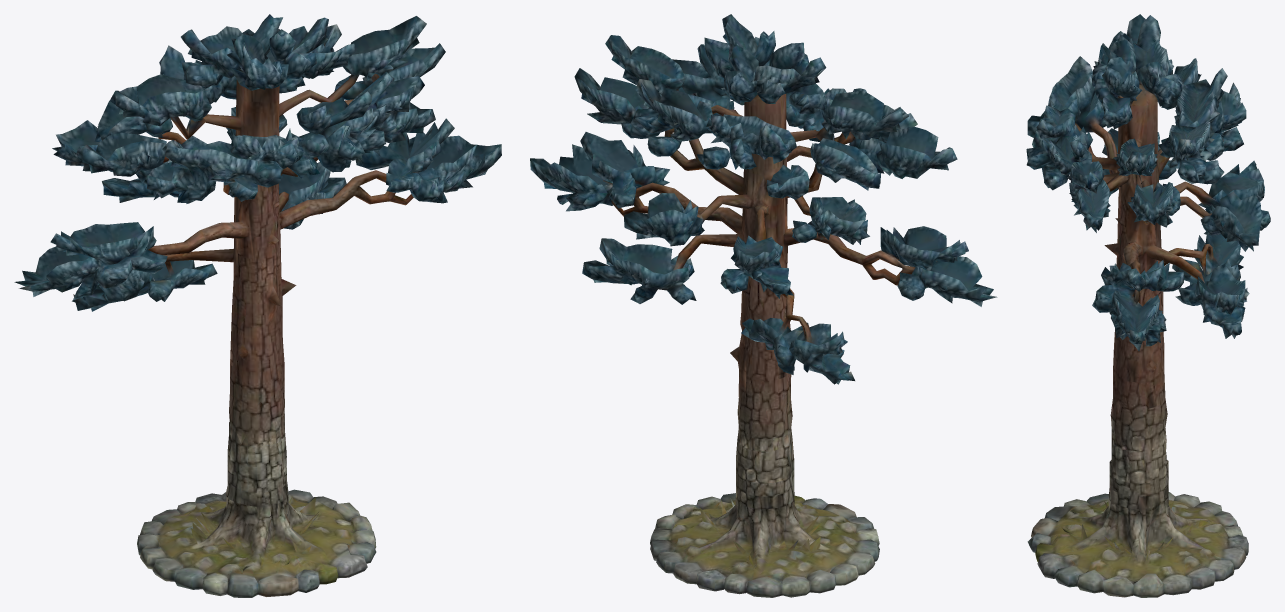
File: tr_pine_a.glb
3 views of the same model, side by side, from view 1: azimuth 30°, elevation 25°; view 2: azimuth 150°, elevation 25°; view 3: azimuth 270°, elevation 25° (orthographic). The views are drawn at different scales.
Parts seen in each view (by area): view 1: tr_pine_a; view 2: tr_pine_a; view 3: tr_pine_a.
Boxes of the visible parts, <box> form: tr_pine_a: <box>14,14,501,597</box>; tr_pine_a: <box>530,14,997,597</box>; tr_pine_a: <box>1026,14,1270,597</box>.
Bounding box in the file's own units: 15.25 × 16 × 6.98.
Materials: 1 (1 with a texture image).
